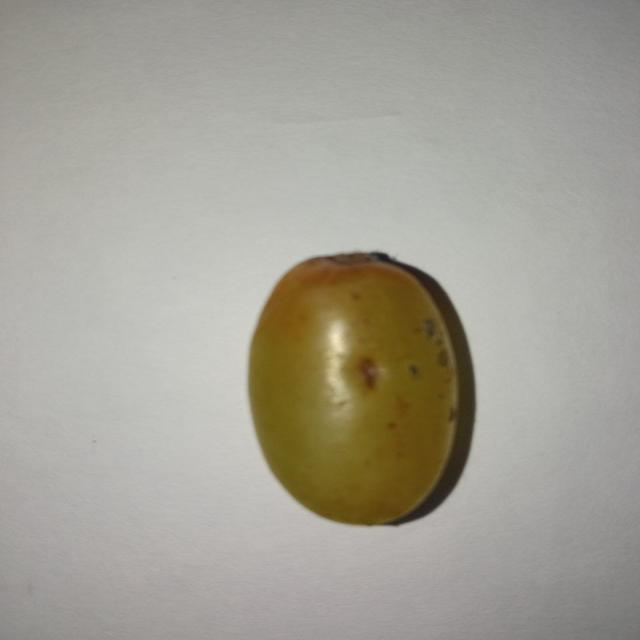fresh_grape: (239, 246, 474, 531)
